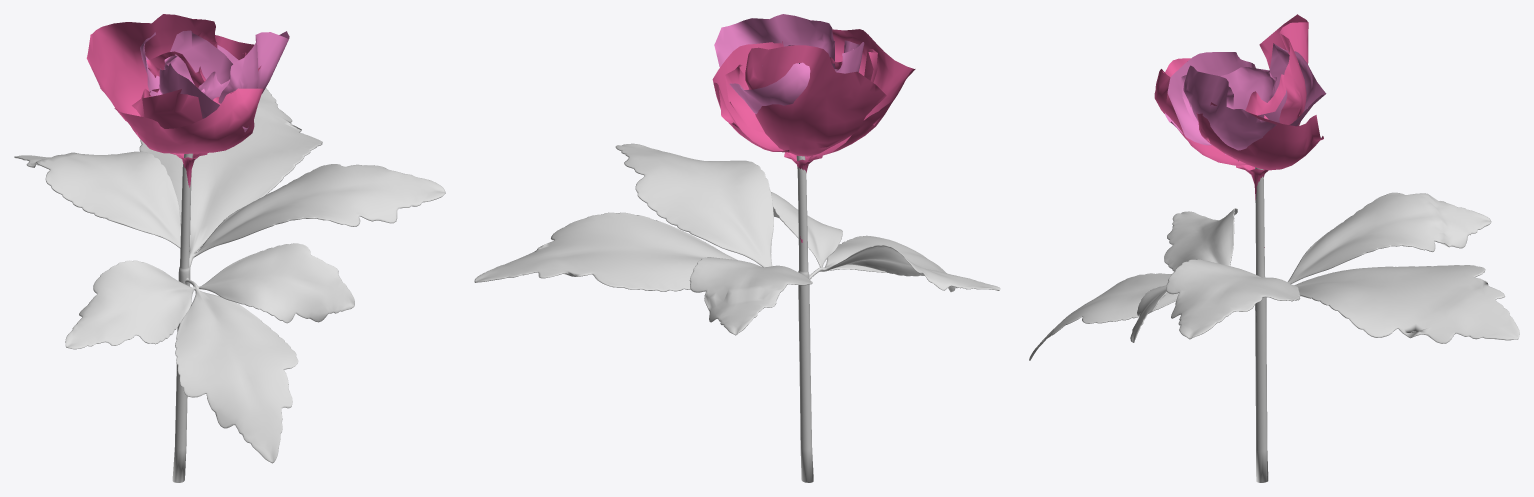
The model's file is peonybpinkcp.glb.
3 renders of one model, left to right at view 1: azimuth 30°, elevation 25°; view 2: azimuth 150°, elevation 25°; view 3: azimuth 270°, elevation 25°, orthographic. The views are drawn at different scales.
Visible parts, largest first — view 1: maki.001; view 2: maki.001; view 3: maki.001.
Boxes of the visible parts, <box> form: maki.001: <box>14,14,445,482</box>; maki.001: <box>474,14,1000,482</box>; maki.001: <box>1029,14,1519,482</box>.
Size of the model in its own units: 2.99 by 3.4 by 3.42.
